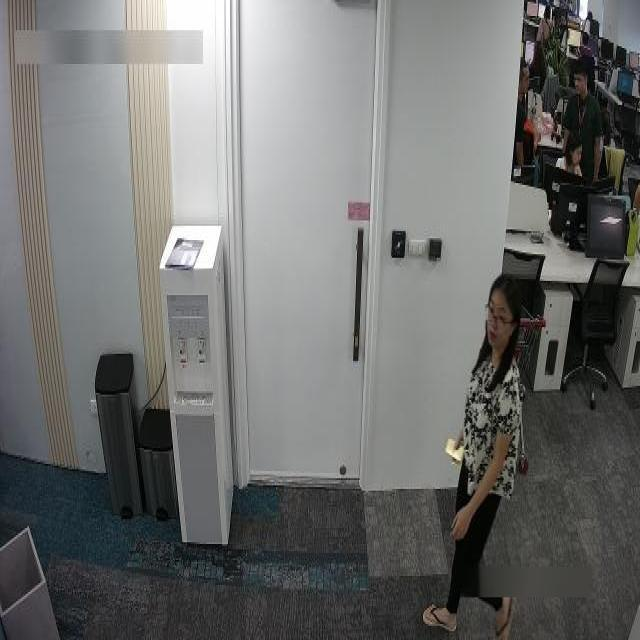bare_hand: (450, 485, 486, 560), (443, 420, 466, 464)
